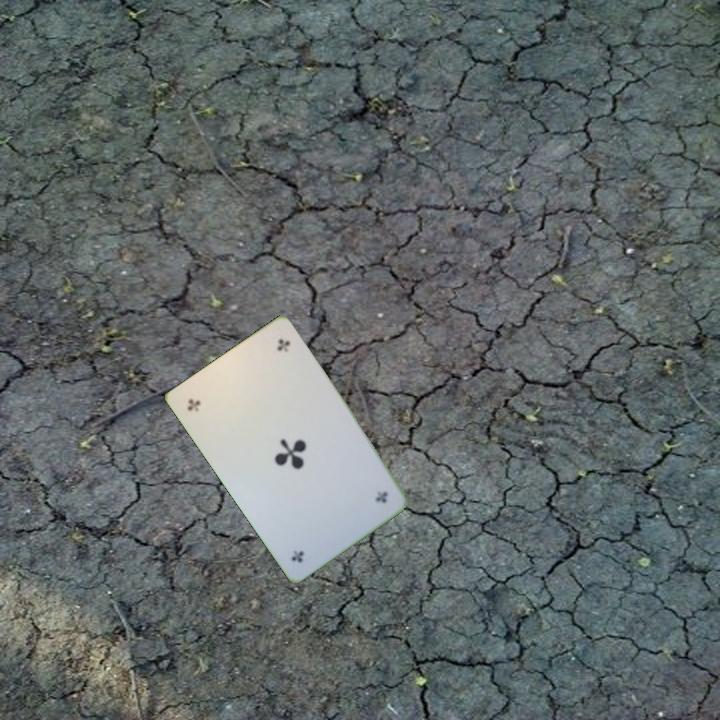c_a.png: (314, 453, 400, 537), (177, 362, 263, 445)
